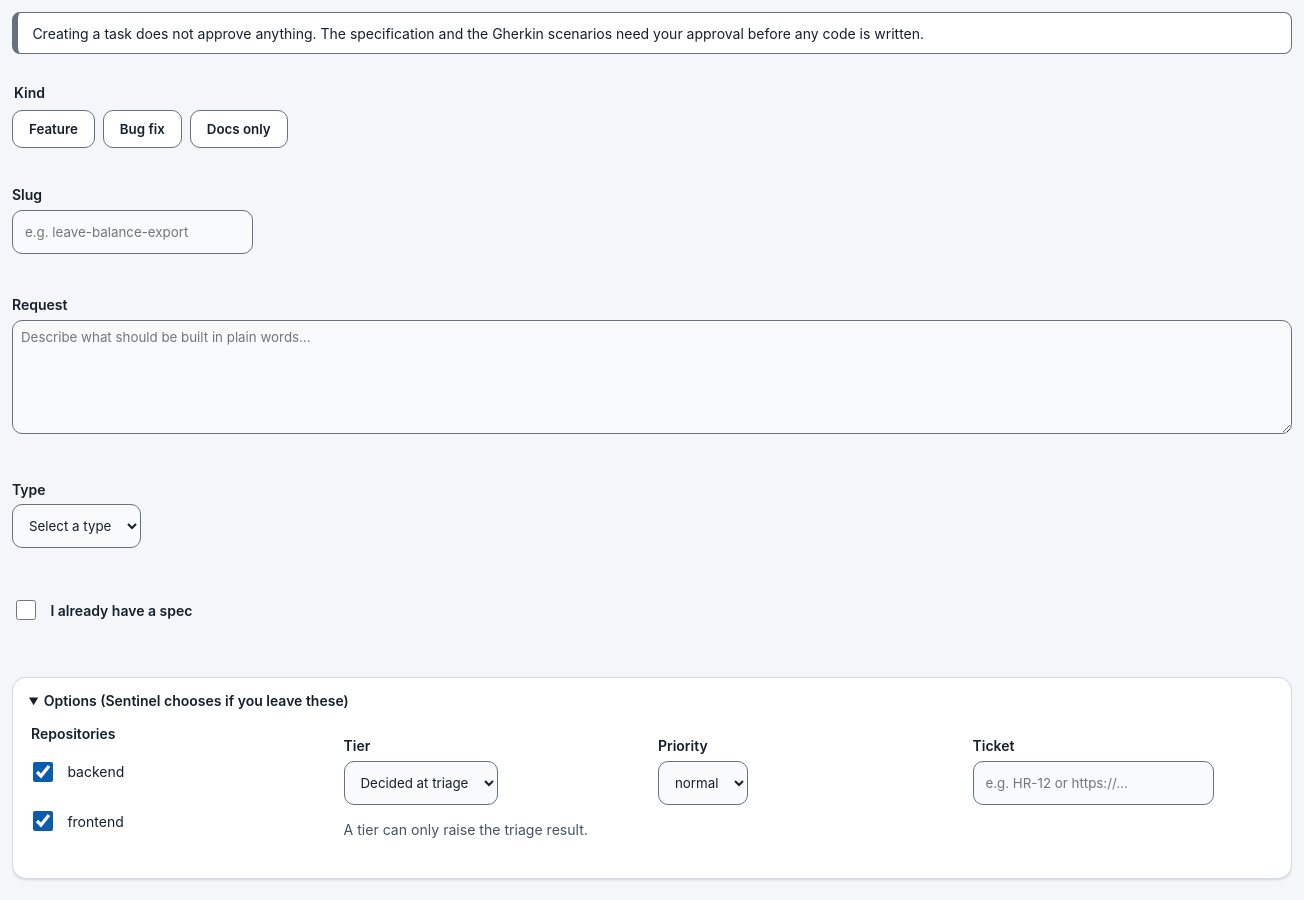
Test case: AC-TSK-01n the form checks fields before sending › AC-TSK-01n field type value
Step 1. Type "leave-report" into the field labelled "Slug" → x=132, y=232, box [12, 210, 253, 254]
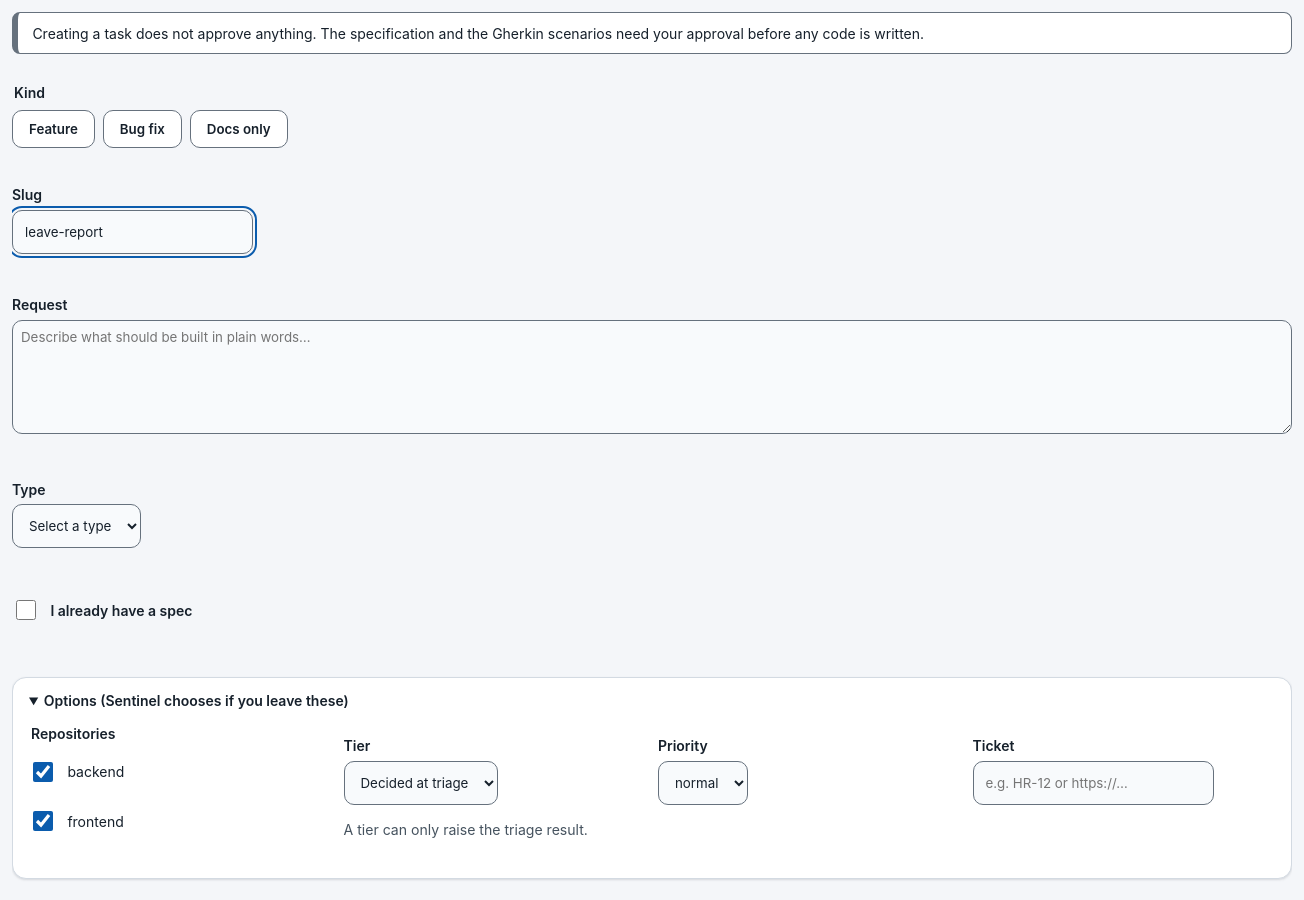
Step 2. Type "Report leave per team" into the text box labelled "Request" → x=652, y=377, box [12, 320, 1292, 434]
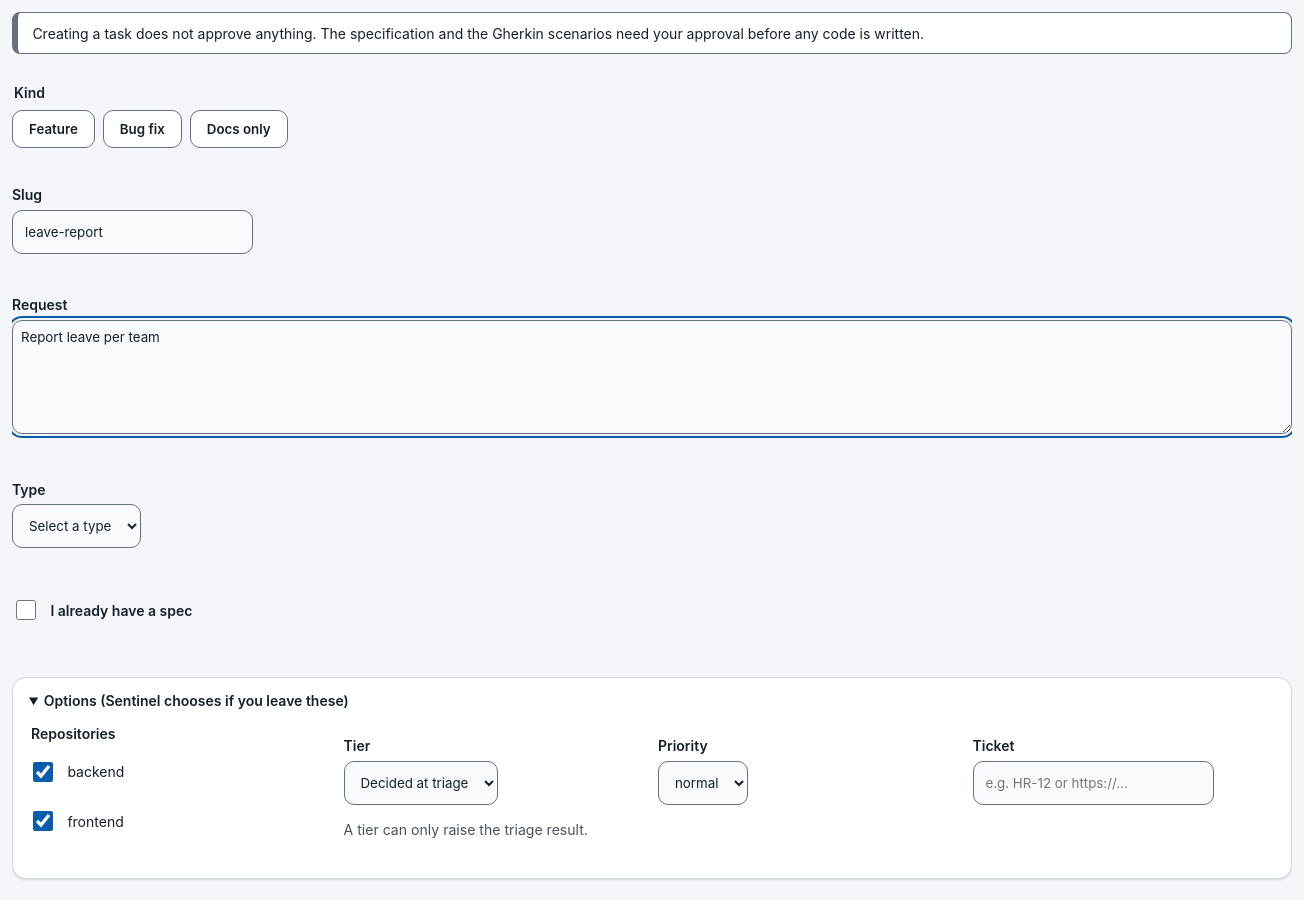
Step 3. Select "feature" in the dropdown labelled "Type" → x=76, y=526, box [12, 504, 141, 548]
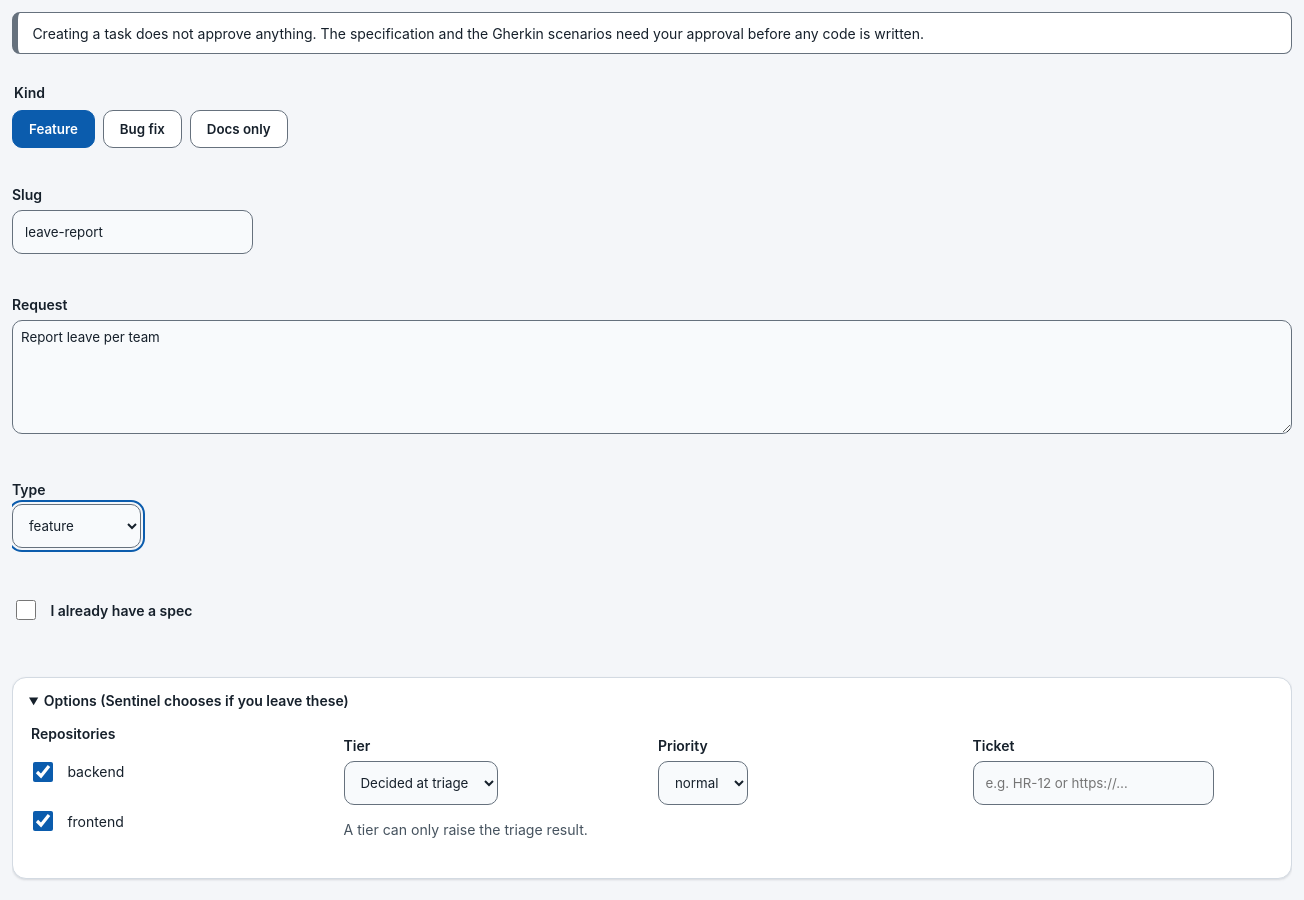
Step 4. Select "Select a type" in the dropdown labelled "Type" → x=76, y=526, box [12, 504, 141, 548]
(page scrolled)
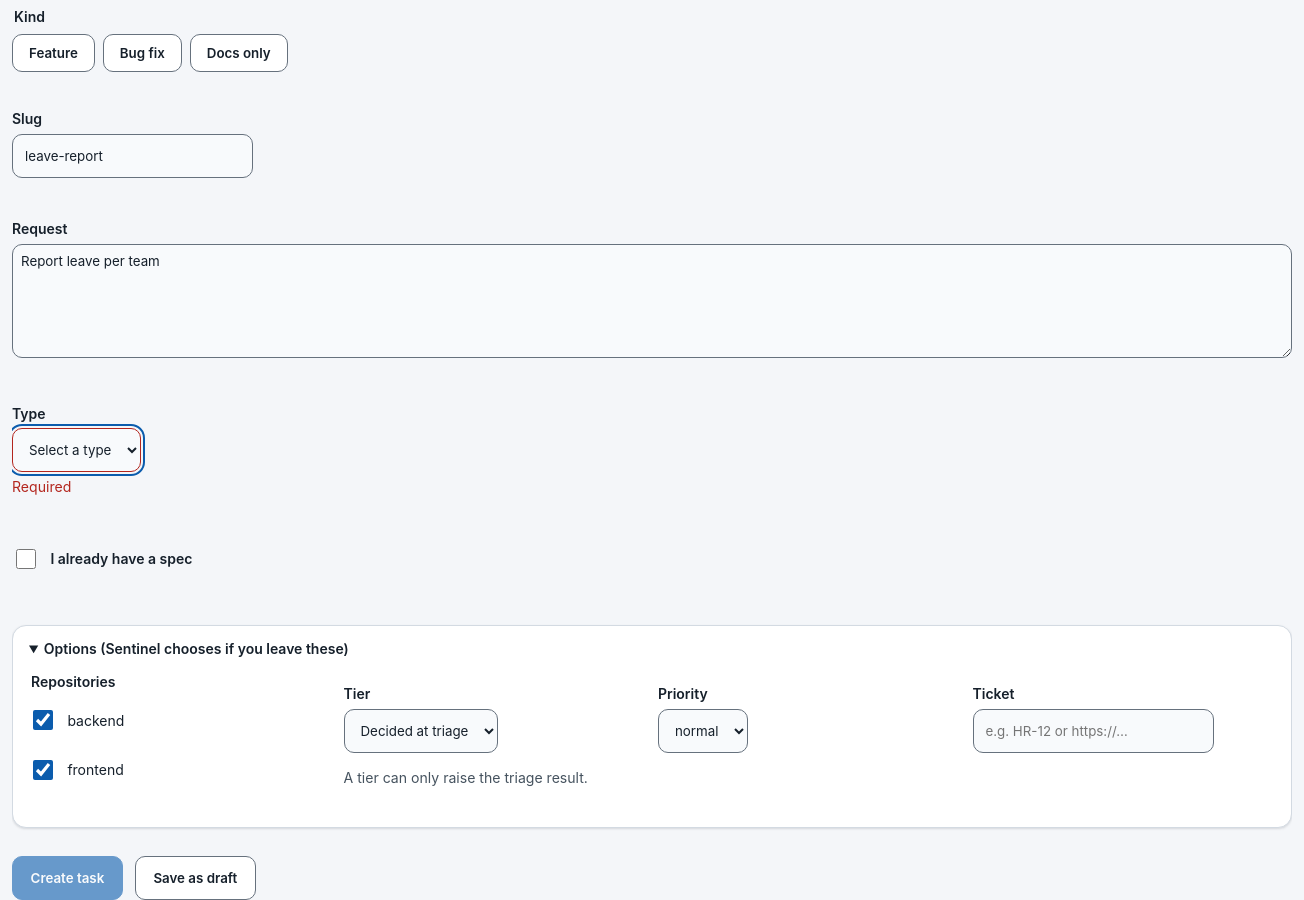
Expected: the text "Required" is shown, [12, 478, 71, 494]
Expected: the button "Create task" is disabled, [12, 856, 123, 899]
